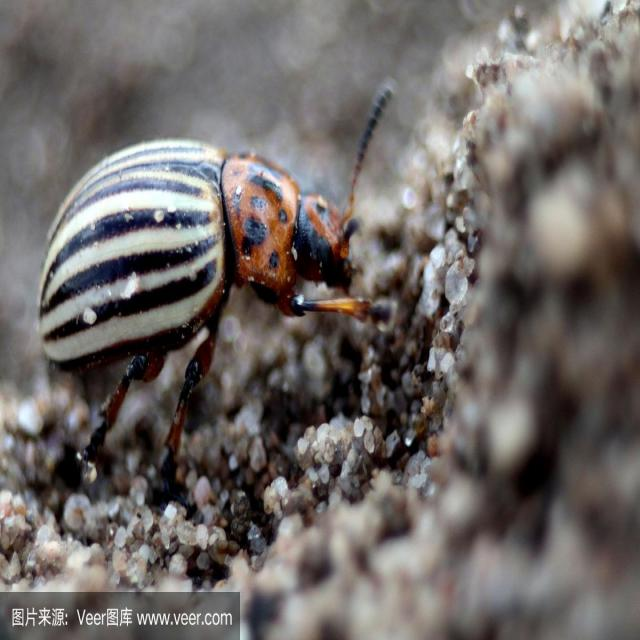ShuCaiHuaBanChong-Grown-: (23, 116, 363, 428)
